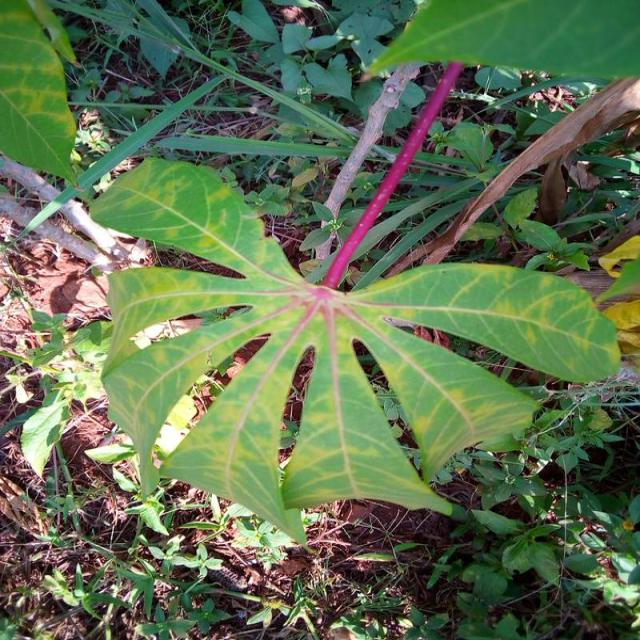cassava leaf: (91, 154, 621, 546), (365, 0, 639, 86), (0, 0, 79, 189)
